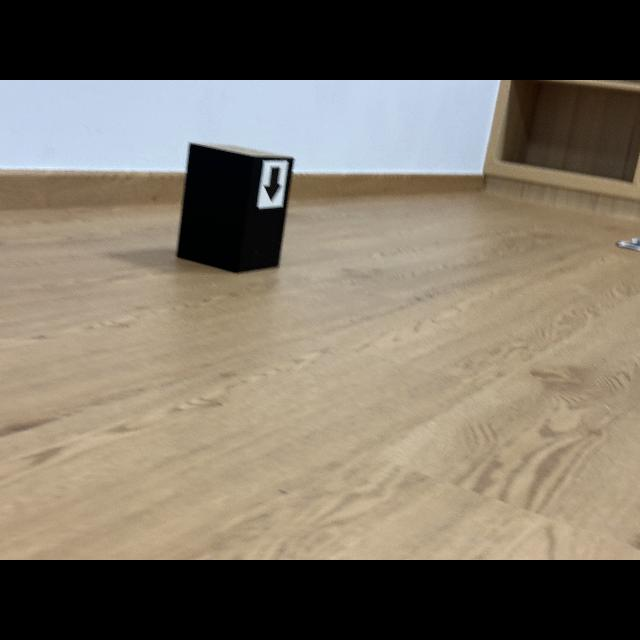DOWN: (264, 167, 283, 202)
